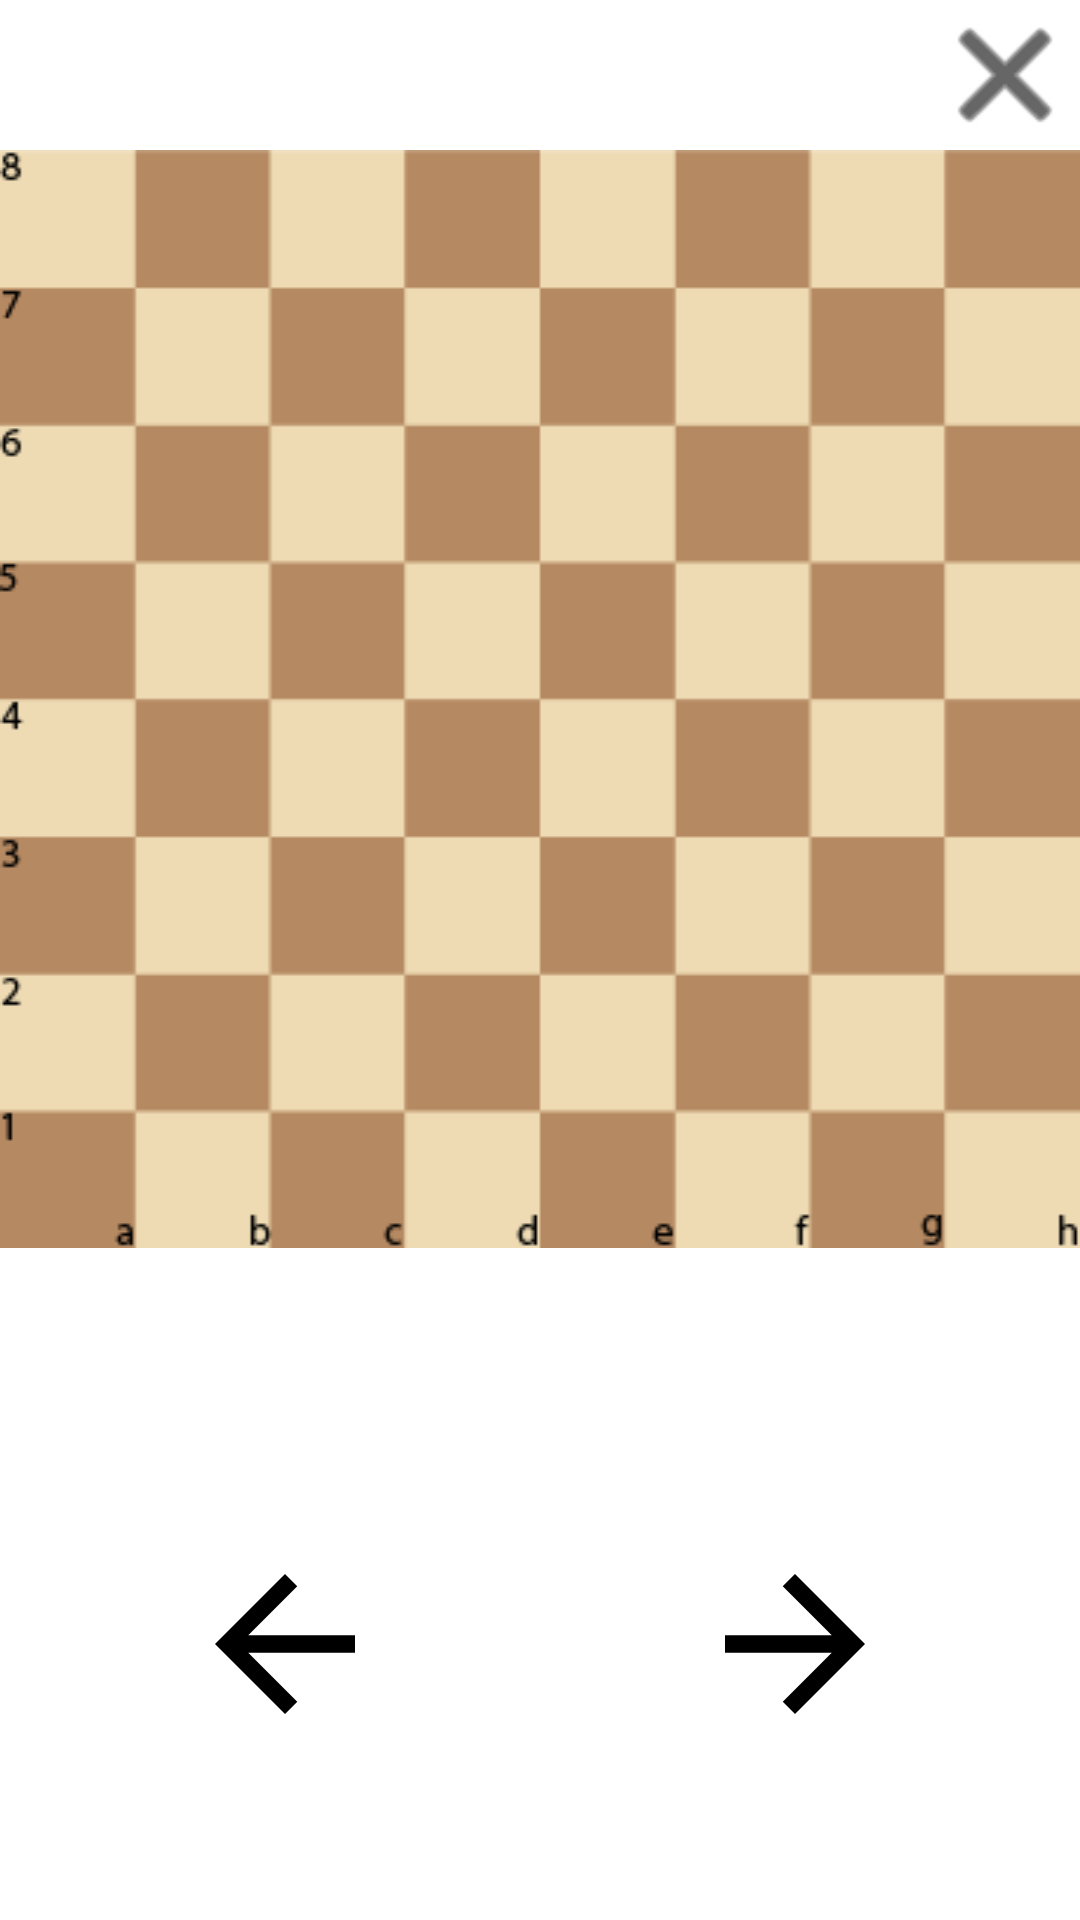

Icons on this 1080x1920 Android screen, each with the point to tap as (x,y):
close clear cancel: (1005,75)
